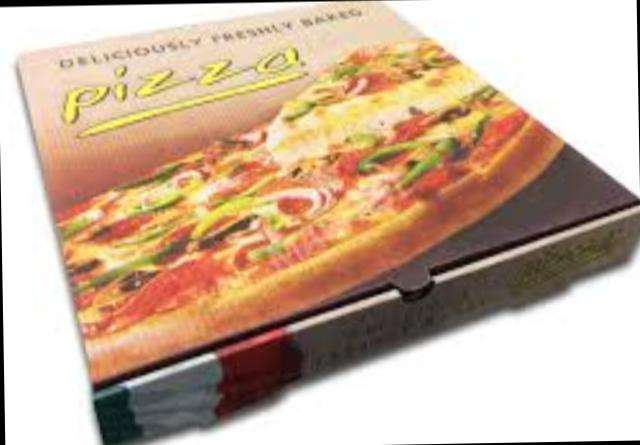cardboard paper: (15, 0, 640, 436)
